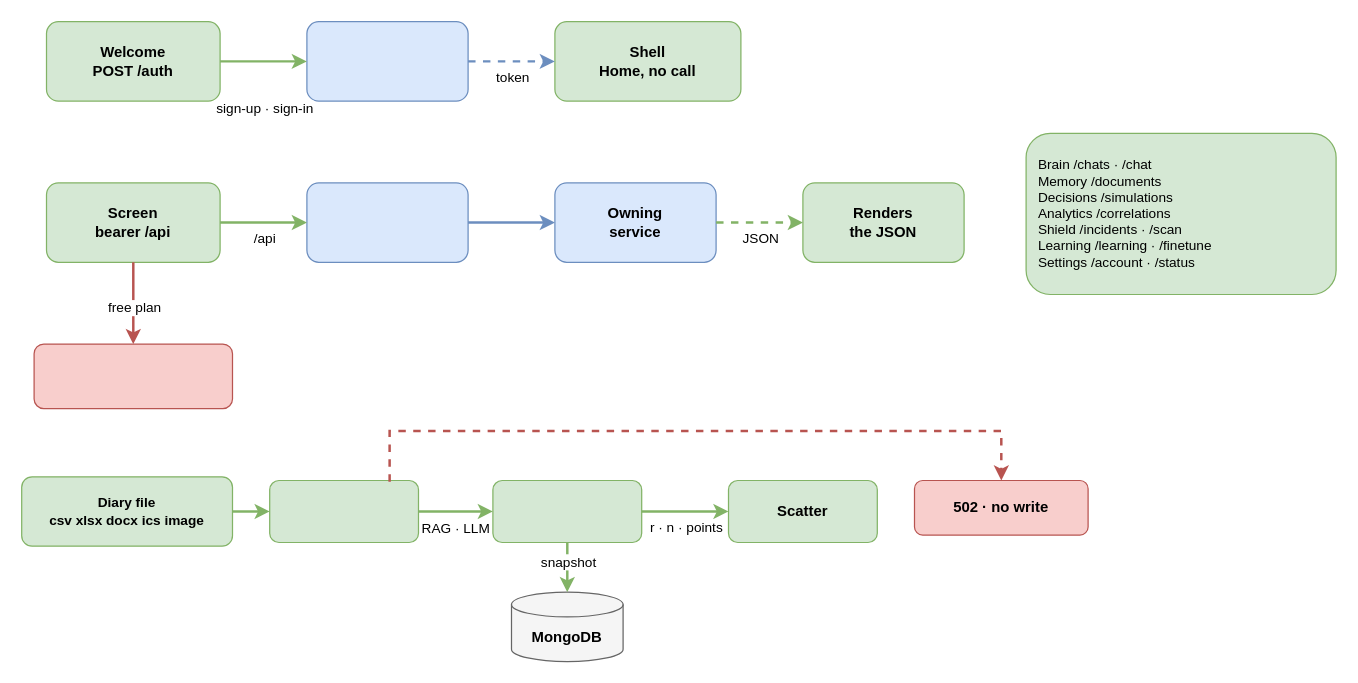
Image size: 1358x683. Some labels were removed from this diagram. Each missing label, with the centre of its shape:
Ingest: the point at 343,510
Pearson: the point at 567,510
Premium notice five screens: the point at 132,376
Router JWT · plan: the point at 387,60
Router plan check: the point at 387,222
